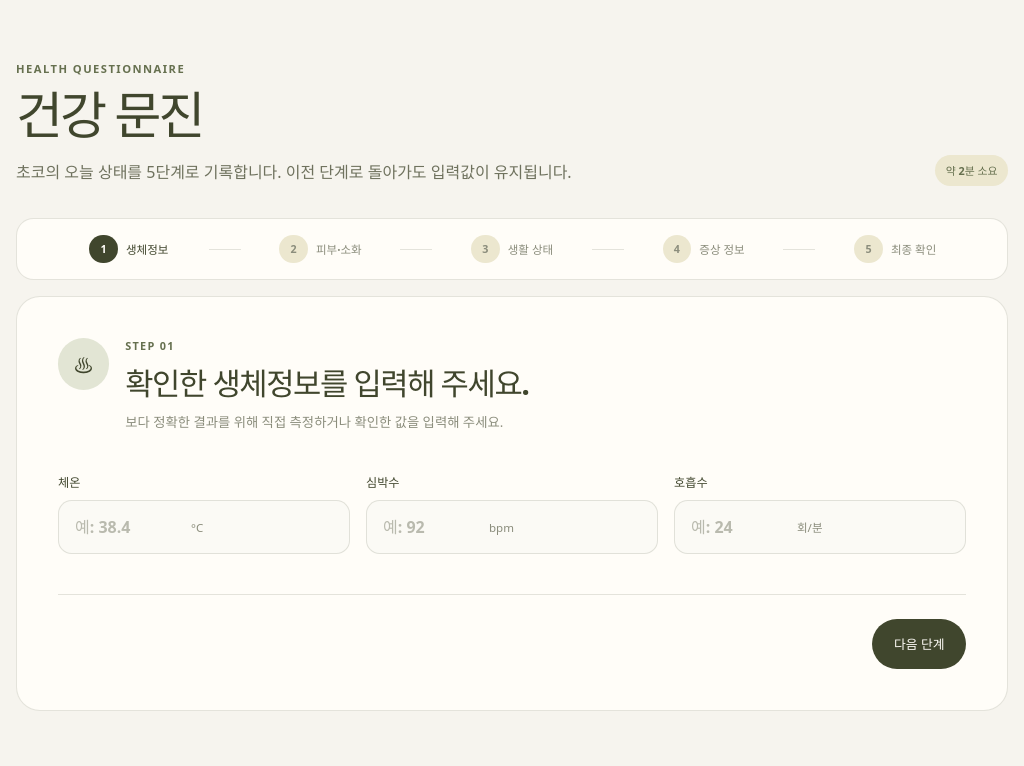
Test: QuestionnairePage 생체정보 입력 › 기본값 대신 예시만 표시하고 실제 입력 전에는 다음 단계로 이동하지 않는다
Expected: the number field labelled "체온 °C" is not empty, [59, 501, 191, 553]
Expected: the number field labelled "심박수 bpm" is not empty, [367, 501, 489, 553]
Click the button "다음 단계".
click(919, 644)  # box [872, 619, 966, 669]
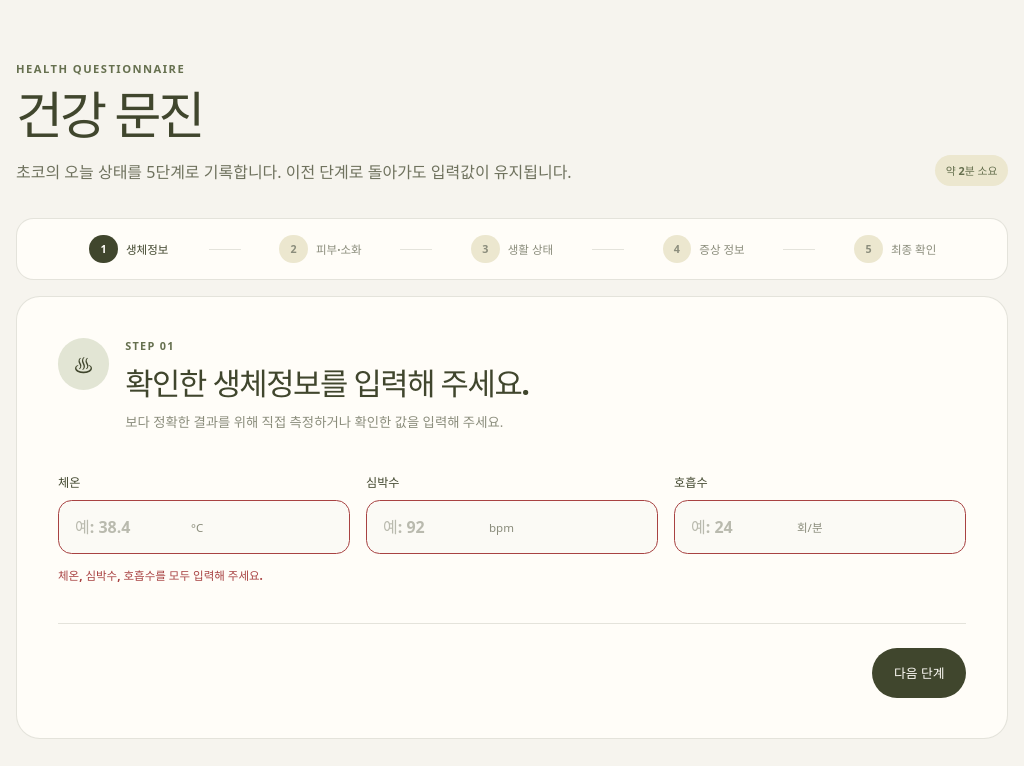
Expected: the text "피부와 소화 상태는 어떤가요?" is not shown
Now the message reads "체온, 심박수, 호흡수를 모두 입력해 주세요.", box [58, 568, 263, 583]
Type "38.4" into the number field labelled "체온 °C".
click(125, 527); type("38.4")  # box [59, 501, 191, 553]
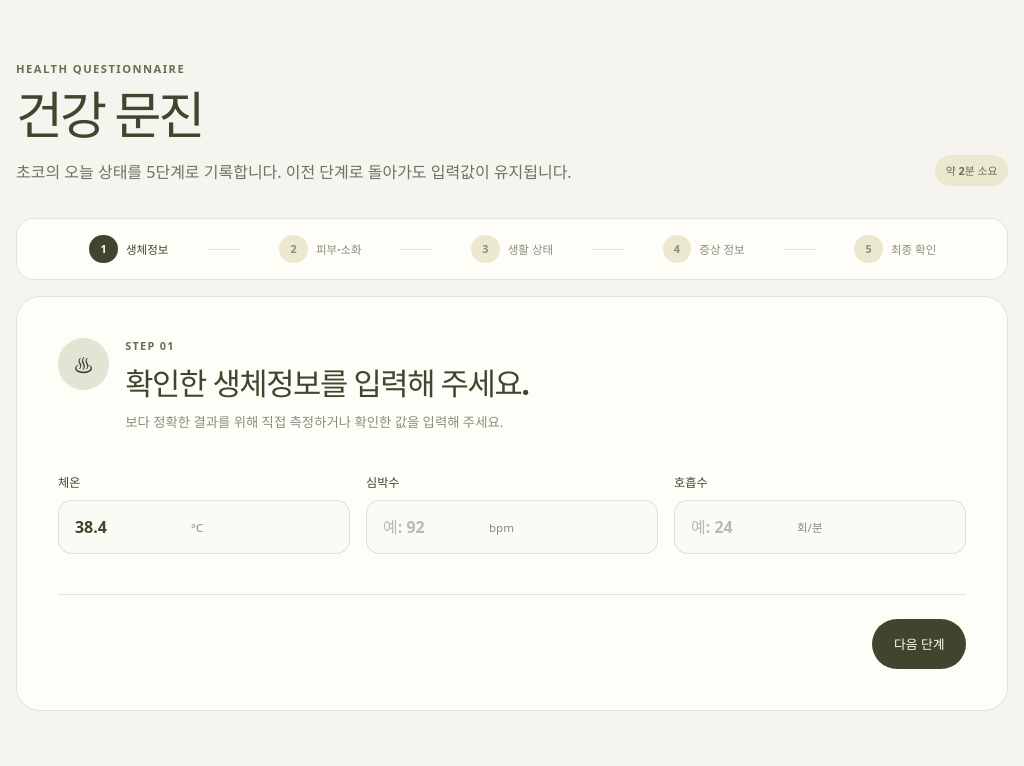
Type "92" into the number field labelled "심박수 bpm".
click(428, 527); type("92")  # box [367, 501, 489, 553]
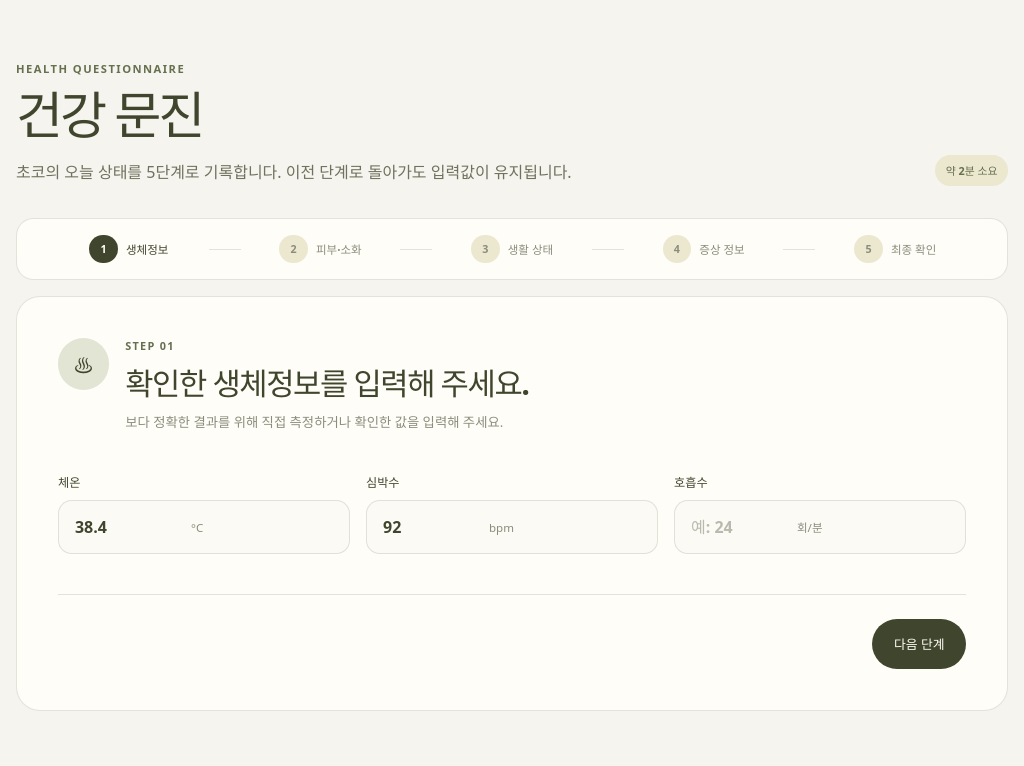
Type "24" into the number field labelled "호흡수 회/분".
click(736, 527); type("24")  # box [675, 501, 797, 553]
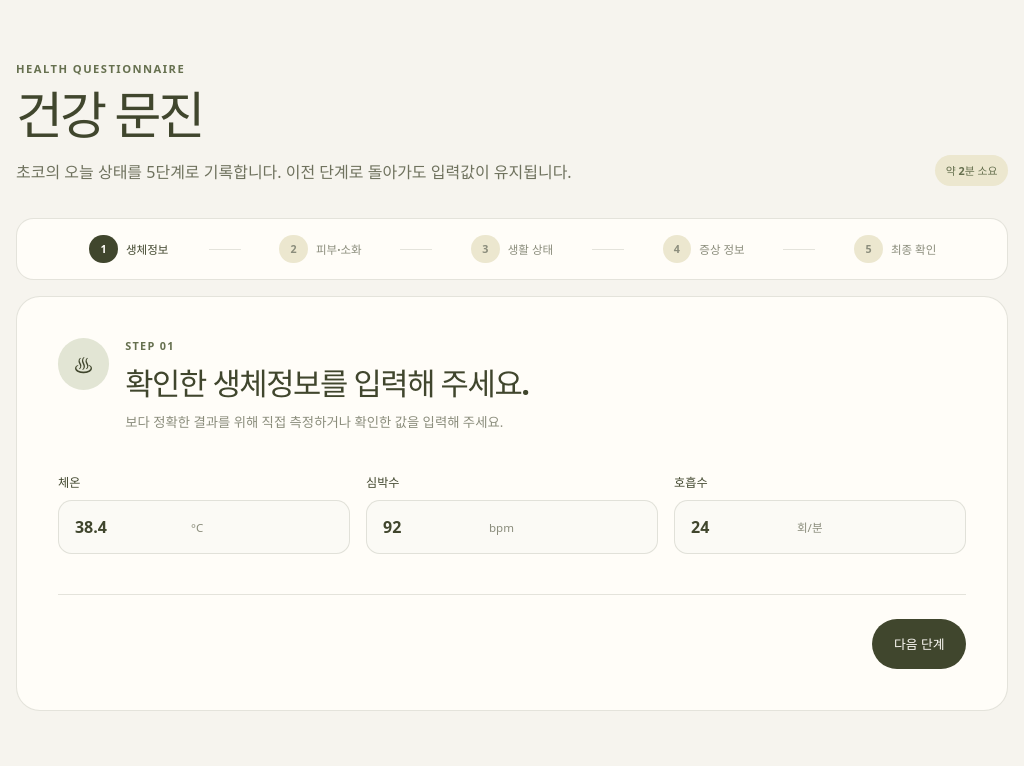
Click the button "다음 단계".
click(919, 644)  # box [872, 619, 966, 669]
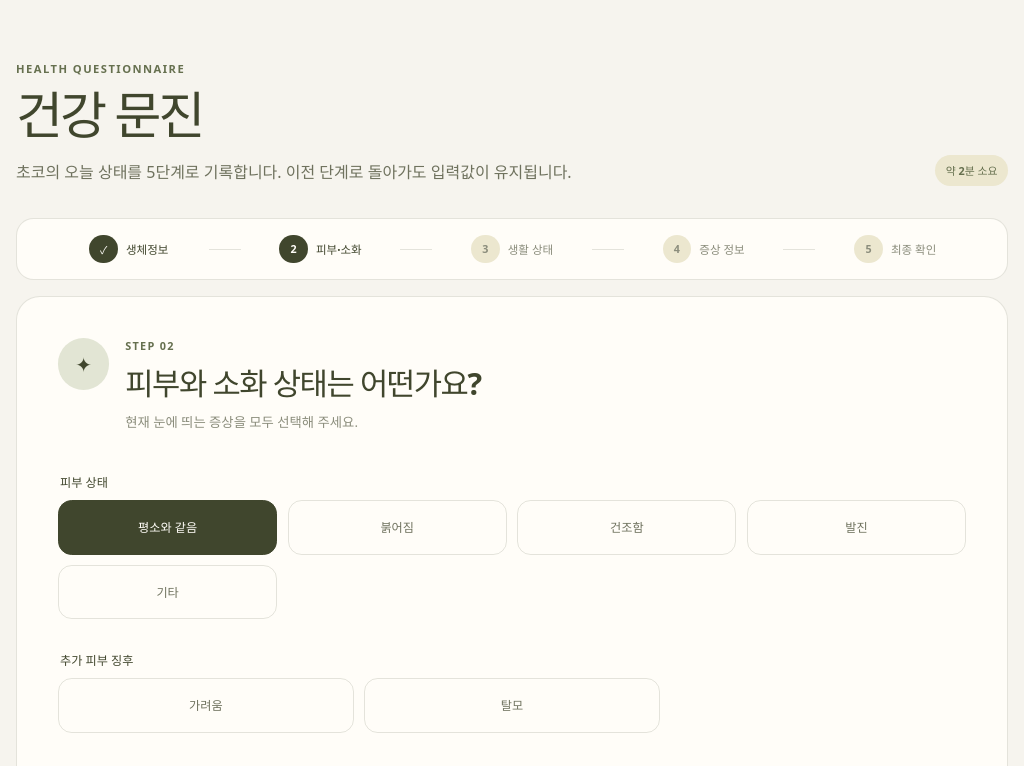
Now the heading "피부와 소화 상태는 어떤가요?" is shown, box [125, 359, 481, 404]
